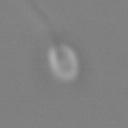normal: (19, 1, 61, 45)
